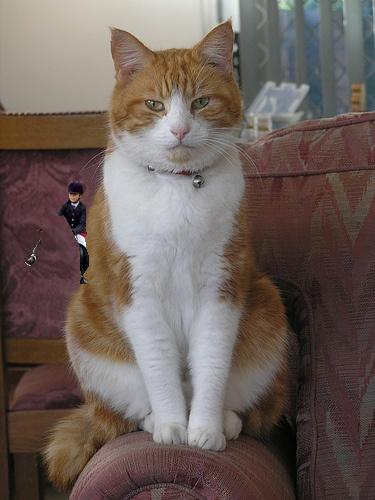tampered: (26, 182, 89, 284)
